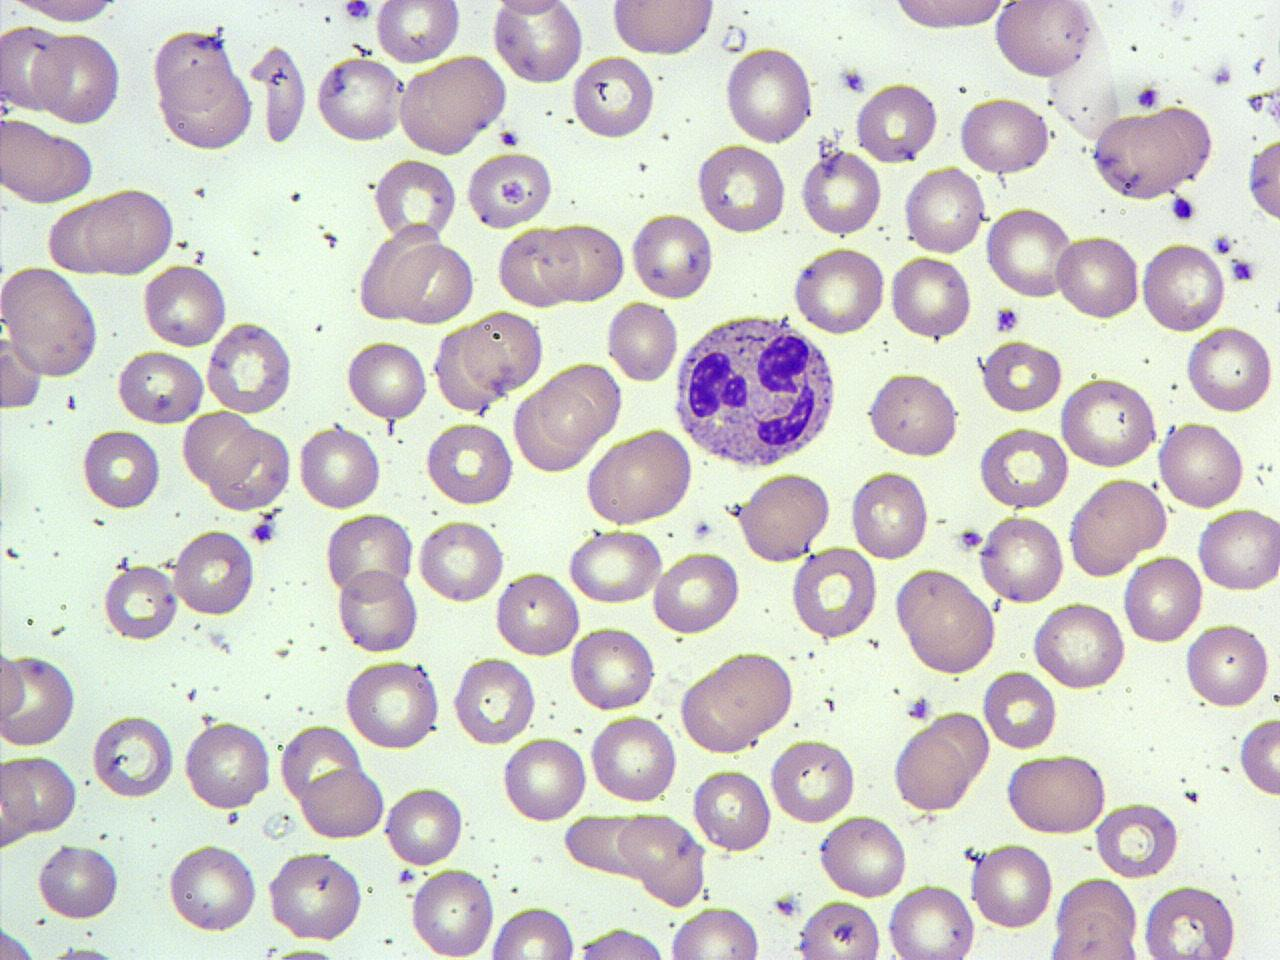Platelets: (838, 64, 868, 97), (992, 304, 1022, 336), (1169, 193, 1197, 224), (904, 694, 934, 722), (1228, 256, 1256, 285), (956, 524, 986, 552), (340, 0, 372, 24), (771, 892, 800, 918), (1135, 84, 1161, 110), (250, 520, 277, 546), (1209, 62, 1233, 86), (1246, 91, 1268, 114), (498, 129, 522, 148), (1214, 233, 1234, 256), (1250, 55, 1266, 75)
RBC: (1089, 106, 1215, 203), (584, 424, 696, 529), (892, 566, 998, 676), (0, 266, 101, 381), (1068, 474, 1170, 578), (722, 43, 816, 147), (1055, 377, 1161, 469), (342, 657, 442, 753), (735, 469, 831, 568), (396, 56, 491, 156), (265, 849, 365, 944), (790, 244, 888, 339), (164, 838, 259, 936), (1029, 599, 1129, 692), (1004, 750, 1109, 837), (983, 203, 1075, 301), (588, 712, 681, 808), (204, 320, 296, 416), (694, 141, 788, 235), (1155, 418, 1247, 514), (864, 368, 959, 460), (180, 718, 273, 812), (1182, 324, 1276, 416), (321, 510, 417, 600), (789, 544, 879, 640), (313, 53, 406, 146), (975, 513, 1068, 605), (1138, 238, 1226, 336), (900, 162, 988, 260), (155, 65, 254, 151), (816, 810, 909, 902), (82, 185, 176, 274), (33, 30, 122, 126), (408, 864, 497, 960), (976, 424, 1071, 512), (990, 1, 1096, 81), (492, 567, 583, 659), (0, 117, 96, 205), (968, 838, 1055, 934), (500, 733, 590, 826), (423, 419, 516, 508), (627, 208, 715, 302), (847, 466, 930, 564), (614, 809, 702, 901), (1054, 230, 1142, 323), (650, 550, 744, 636), (491, 0, 586, 85), (1121, 552, 1205, 646), (449, 656, 537, 746), (769, 736, 858, 826), (414, 517, 506, 604), (1194, 503, 1280, 596), (296, 422, 382, 514), (564, 526, 665, 605), (91, 711, 178, 801), (141, 260, 229, 350), (1183, 621, 1273, 709), (1141, 881, 1241, 960), (956, 96, 1052, 177), (334, 567, 421, 655), (568, 624, 657, 712), (372, 155, 459, 245), (798, 146, 883, 238), (150, 25, 237, 114), (512, 382, 598, 472), (570, 52, 656, 142), (1050, 876, 1144, 958), (710, 648, 796, 736), (854, 79, 940, 166), (209, 424, 293, 513), (460, 310, 546, 396), (886, 253, 973, 340), (1092, 798, 1180, 882), (1, 650, 78, 748), (172, 528, 254, 619), (345, 337, 430, 423), (34, 840, 122, 924), (464, 150, 556, 229), (886, 880, 977, 960), (690, 766, 774, 852), (677, 668, 758, 756), (80, 427, 162, 512), (890, 725, 970, 814), (114, 348, 206, 425), (494, 226, 580, 308), (387, 242, 473, 324), (540, 222, 626, 302), (980, 337, 1065, 416), (980, 667, 1059, 752), (300, 763, 387, 842), (605, 296, 680, 386), (384, 784, 464, 868), (544, 361, 624, 444), (430, 54, 509, 138), (1, 751, 78, 837), (0, 20, 70, 114), (356, 234, 427, 324), (180, 408, 258, 488), (102, 563, 178, 643), (608, 1, 717, 57), (45, 198, 123, 275), (372, 0, 462, 64), (666, 902, 762, 960), (256, 42, 308, 145), (794, 899, 884, 958), (489, 904, 578, 960), (887, 0, 1005, 34), (0, 330, 44, 412), (3, 0, 123, 30), (1238, 715, 1280, 799), (573, 925, 672, 959), (1246, 134, 1280, 228), (0, 756, 30, 854), (0, 644, 29, 734)
WBC: (670, 308, 842, 472)
